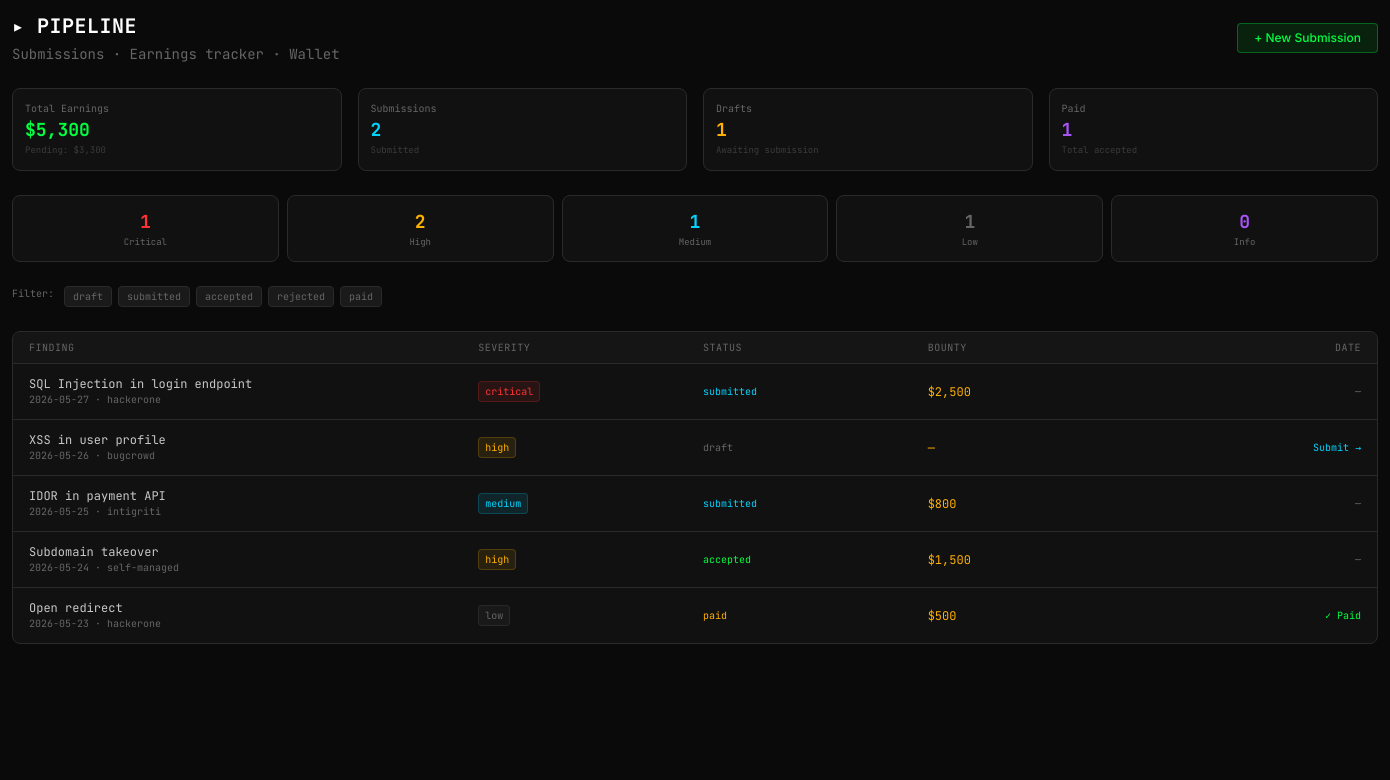
Test: PipelinePage › adds a new submission when the form is submitted with title and URL
Click the button "+ New Submission".
click(1308, 38)  # box [1237,23,1378,53]
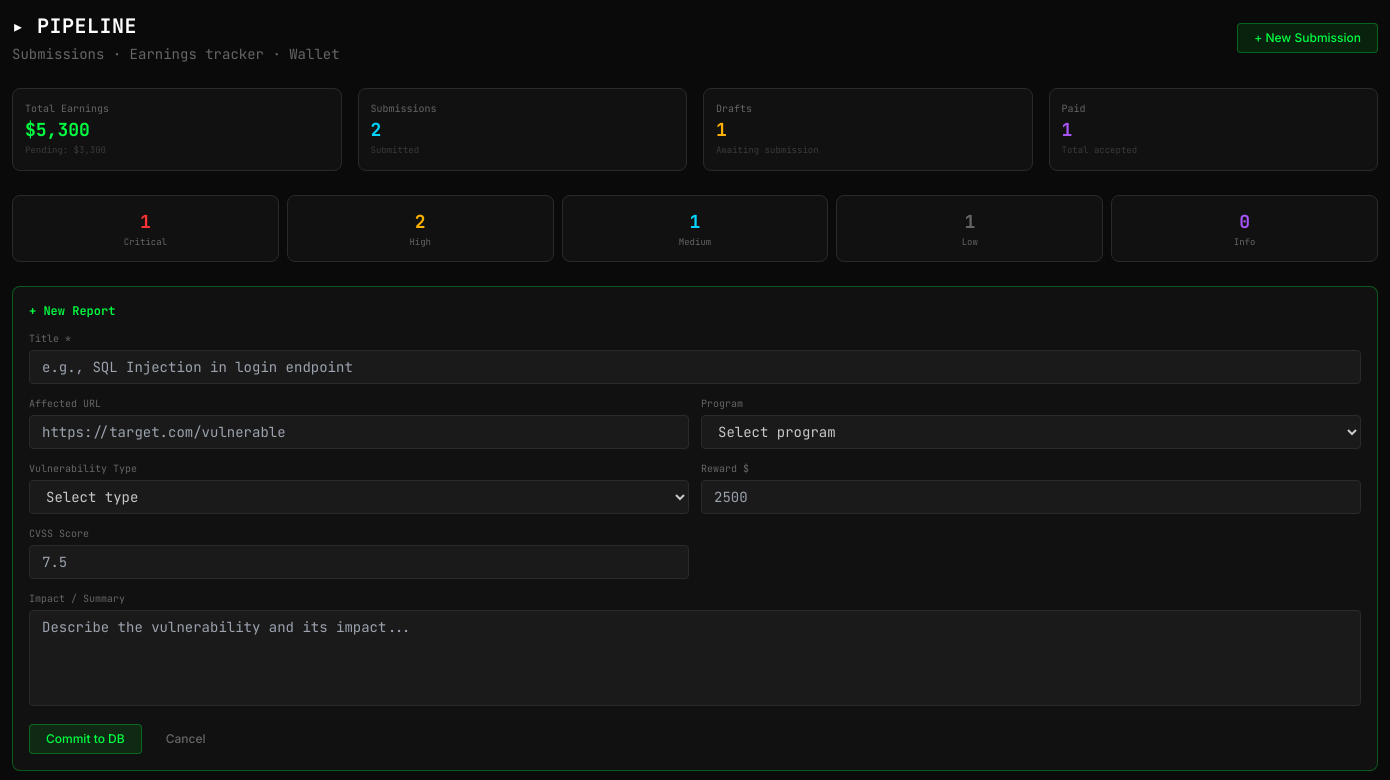
Type "Test XSS finding" into the field with placeholder "e.g., SQL Injection in login endpoint".
click(695, 367); type("Test XSS finding")  # box [29,350,1361,384]
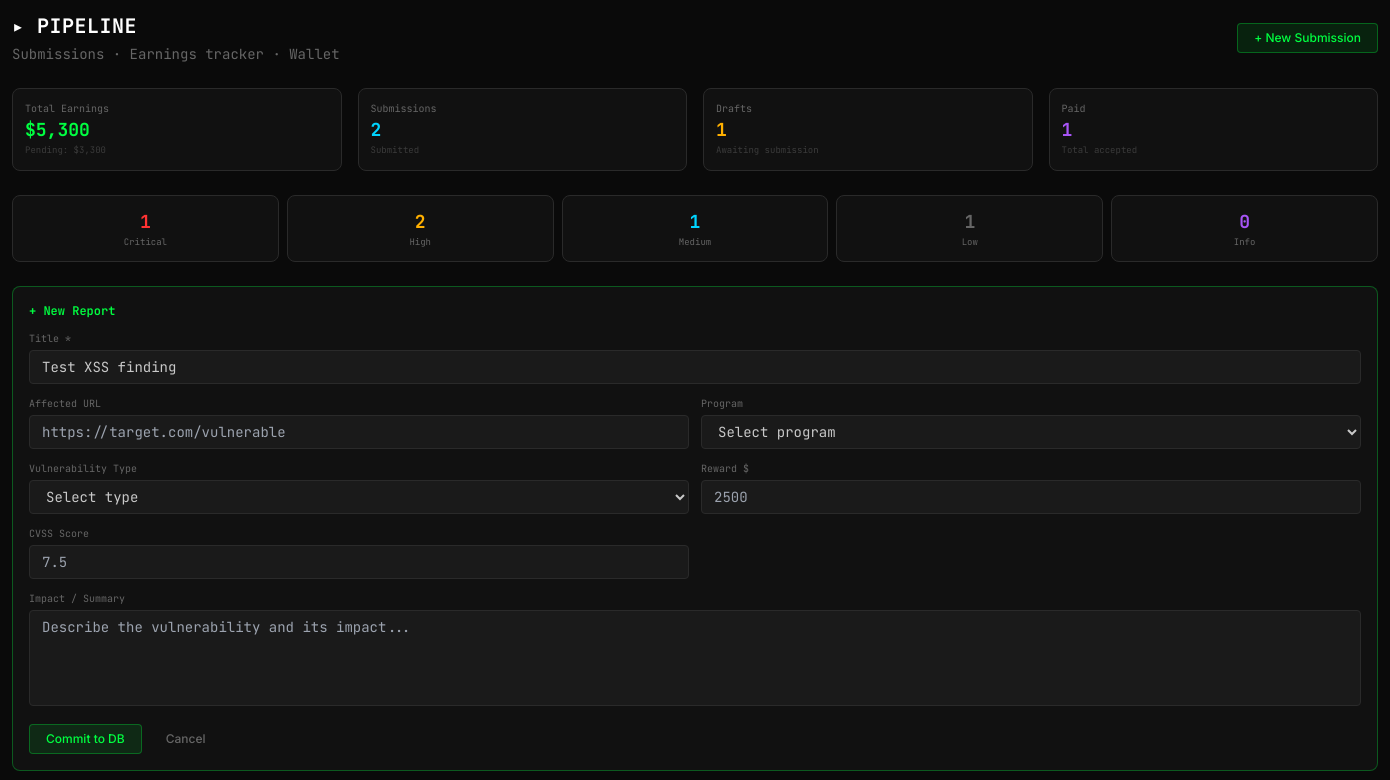
Type "https://example.com/xss" into the field with placeholder "https://target.com/vulnerable".
click(359, 432); type("https://example.com/xss")  # box [29,415,689,449]
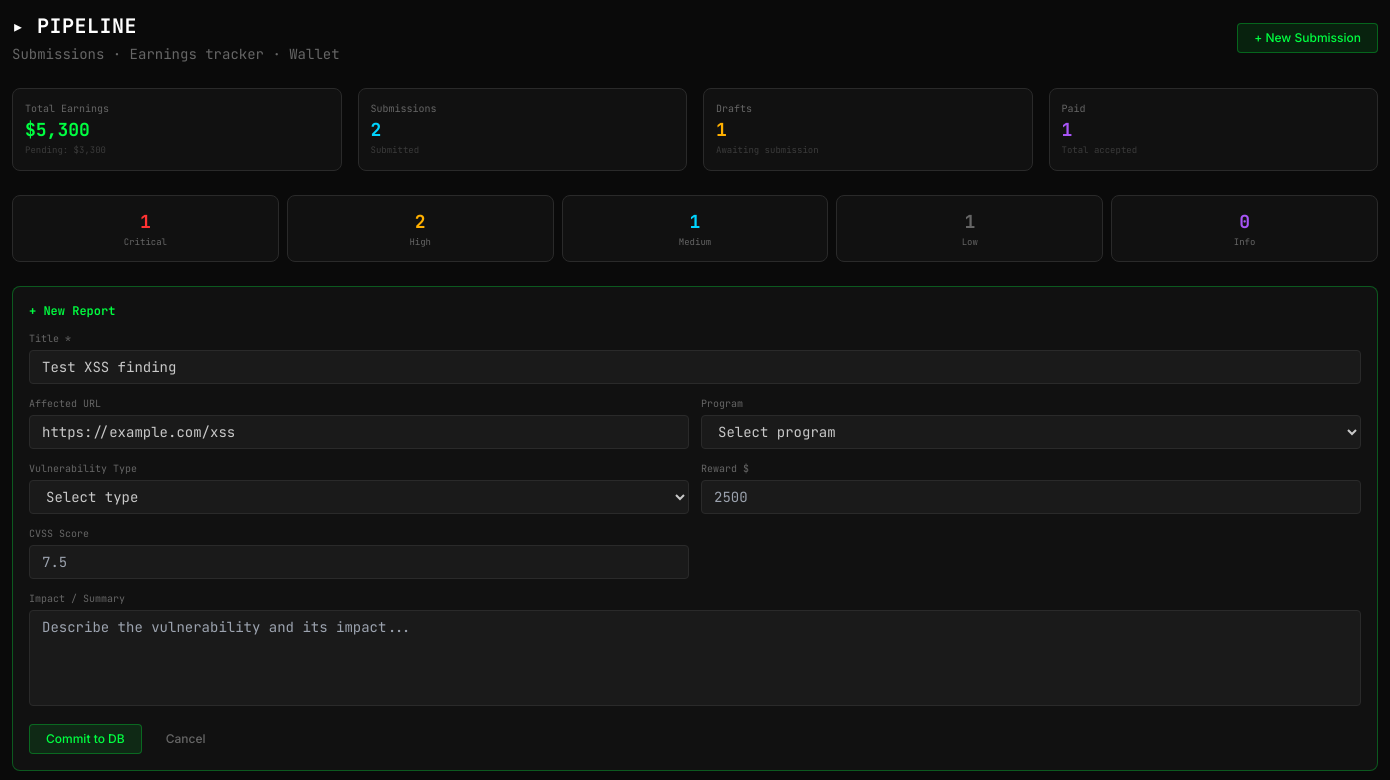
Click the button "Commit to DB".
click(85, 739)  # box [29,724,142,754]
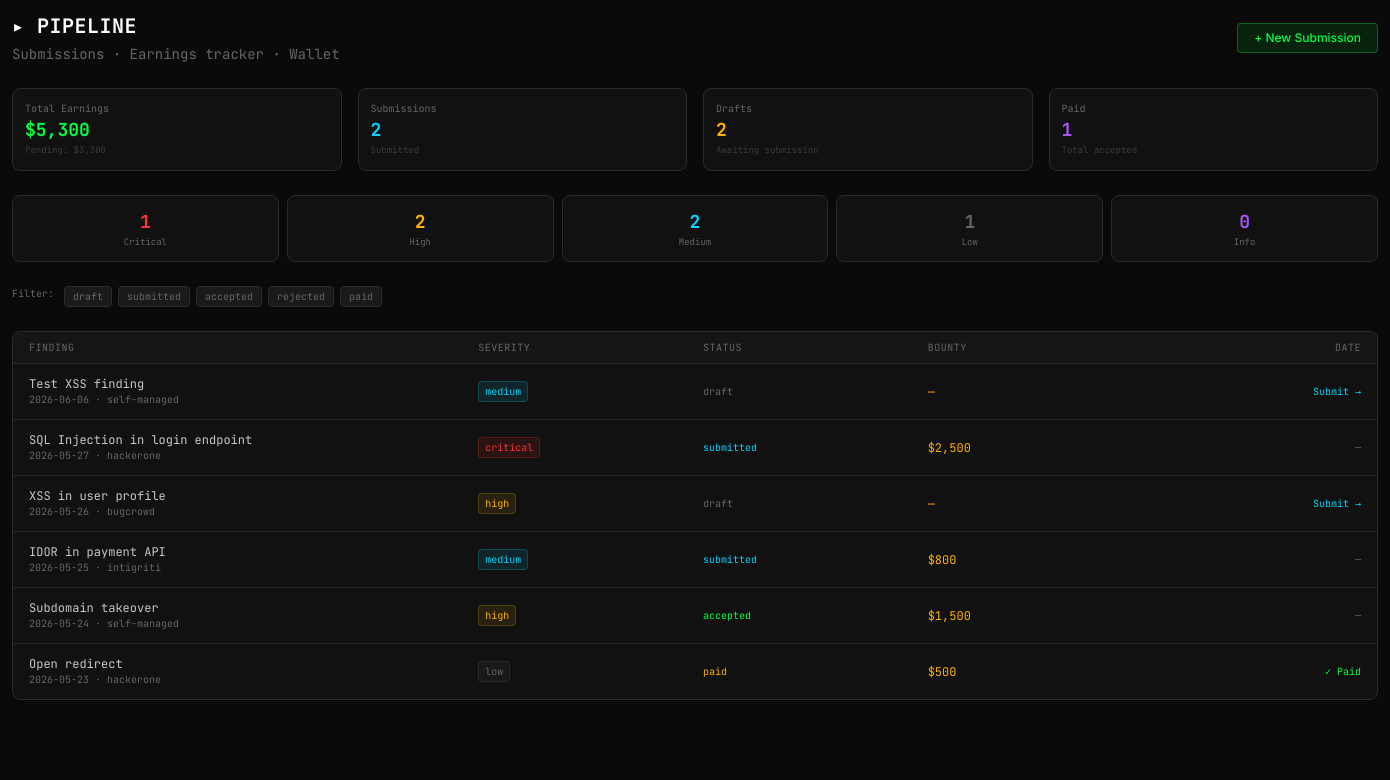
Check: the text "Test XSS finding" is shown, box [29,376,144,392]
